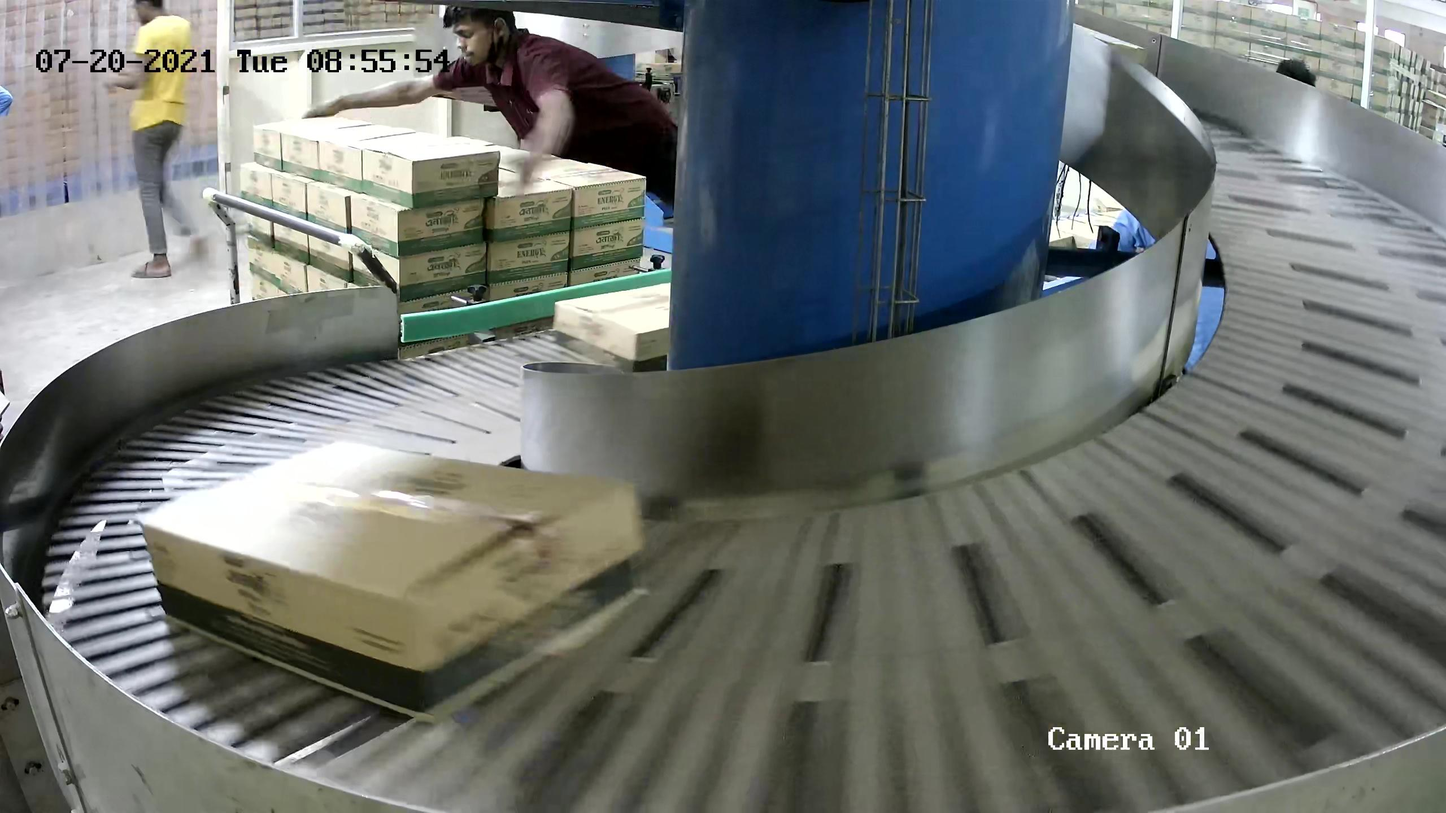Box: (131, 436, 648, 727), (551, 279, 672, 372)
